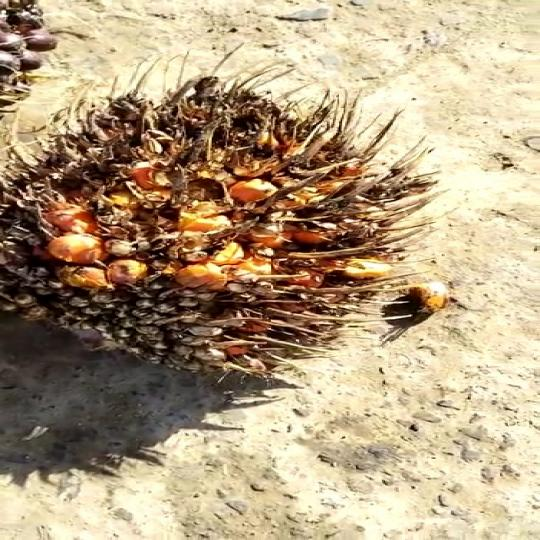terlalu masak: (1, 53, 511, 386)
